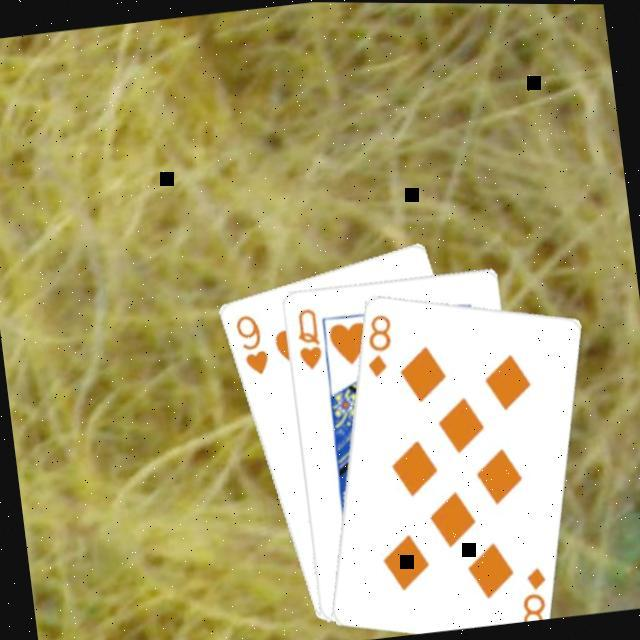8D: (358, 308, 401, 381), (514, 562, 554, 621)
9H: (230, 309, 274, 380)
QH: (290, 303, 326, 373)
